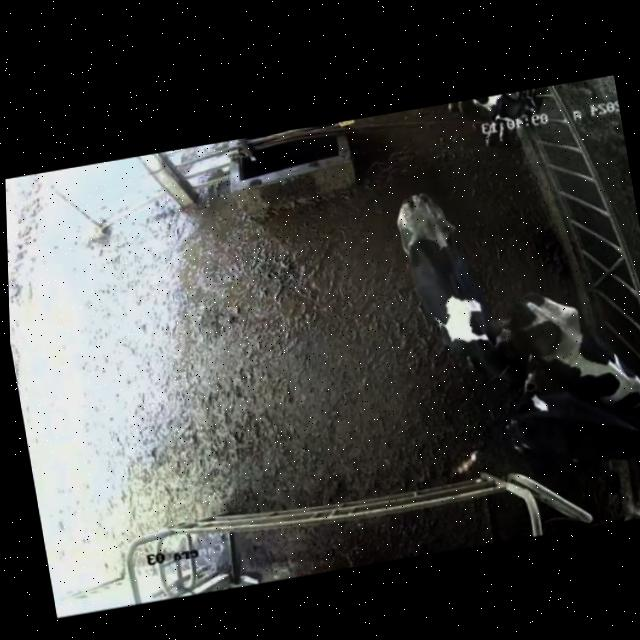eat: (609, 435, 640, 514), (612, 377, 640, 446)
stand: (378, 172, 532, 416)
